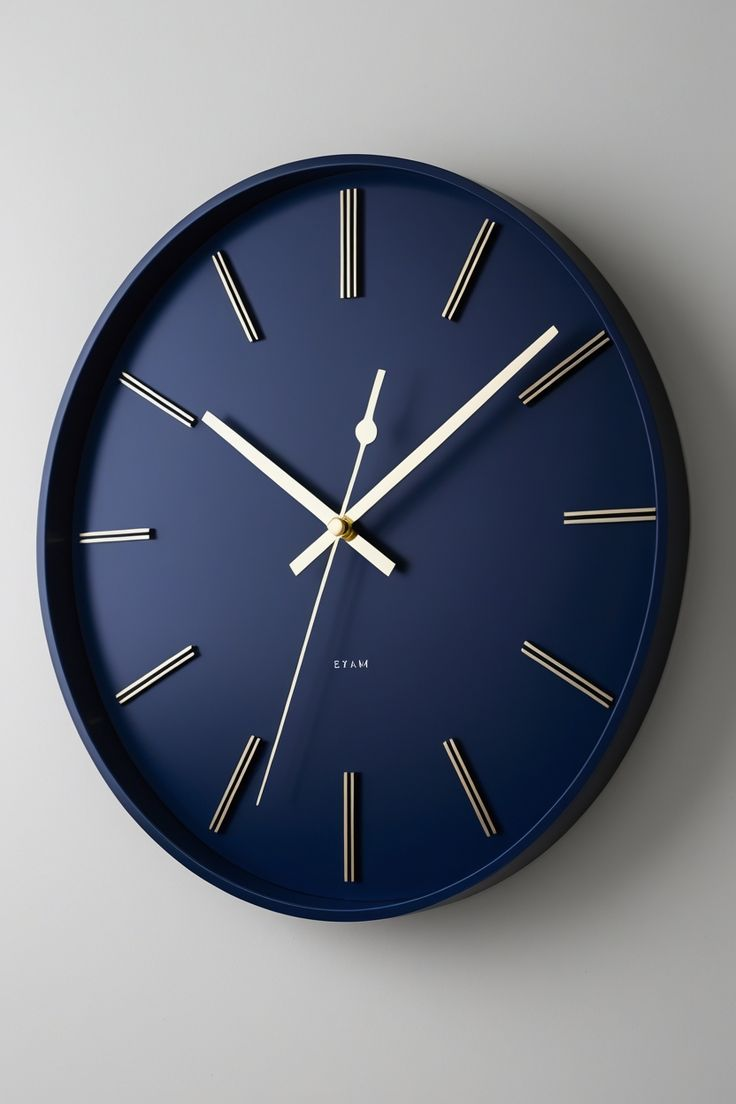clock: (8, 6, 724, 1098)
